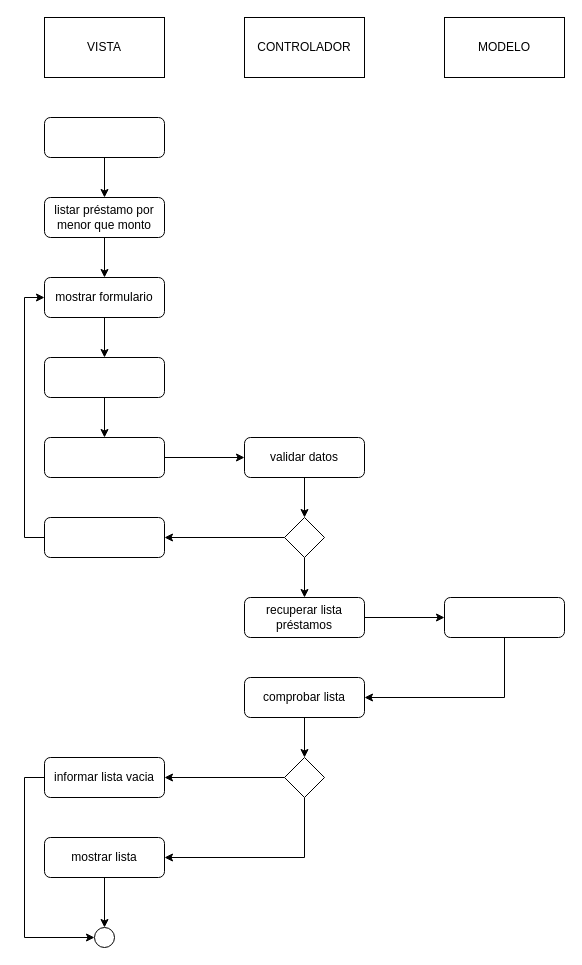
Image size: 582x965. Some labels were removed from this diagram. Here are the shapes that lost their labels. From the top down, the centre of each, then its label:
point 104,137: vista préstamo
point 104,377: completar formulario
point 104,457: confirmar formulario
point 104,537: informar error
point 504,617: recuperar préstamos que coincidan
